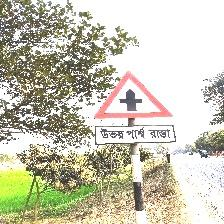Crossroad: (93, 73, 176, 145)
